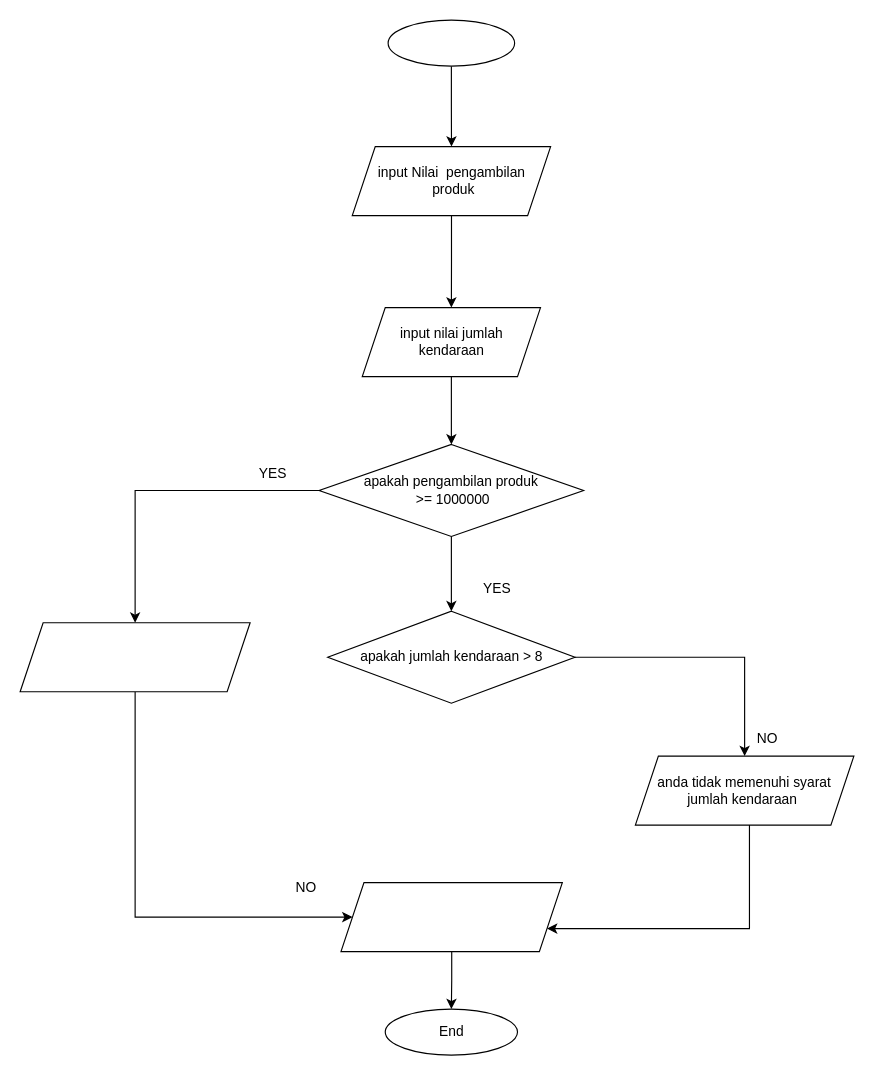
Some shapes in this 874 by 1075 pixel diagram are drawn without their labels. Here are the shapes that lost their labels. From the top down, the centre of each, then its label:
At point 451,42: "star".
At point 134,657: "anda memenuhi syarat menjadi distribusi di daerah".
At point 451,916: "Anda tidak memenuhi syarat minimal pengambilan produk".
